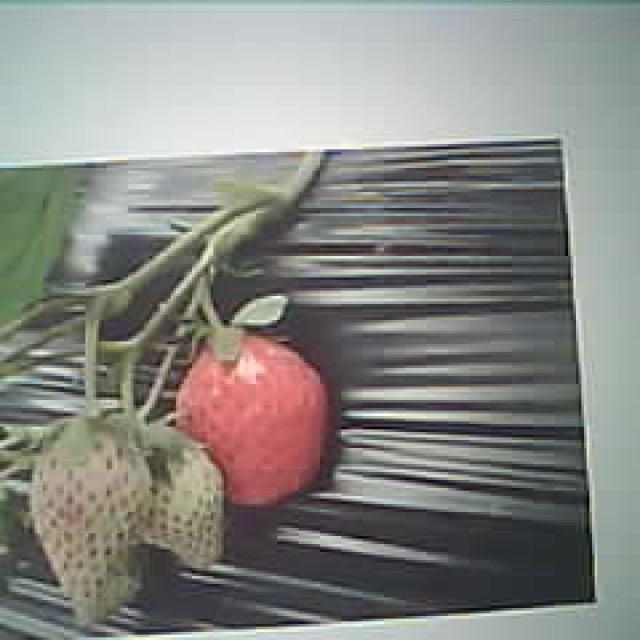strawberry: (174, 332, 329, 507), (30, 422, 152, 624), (126, 425, 224, 568)
